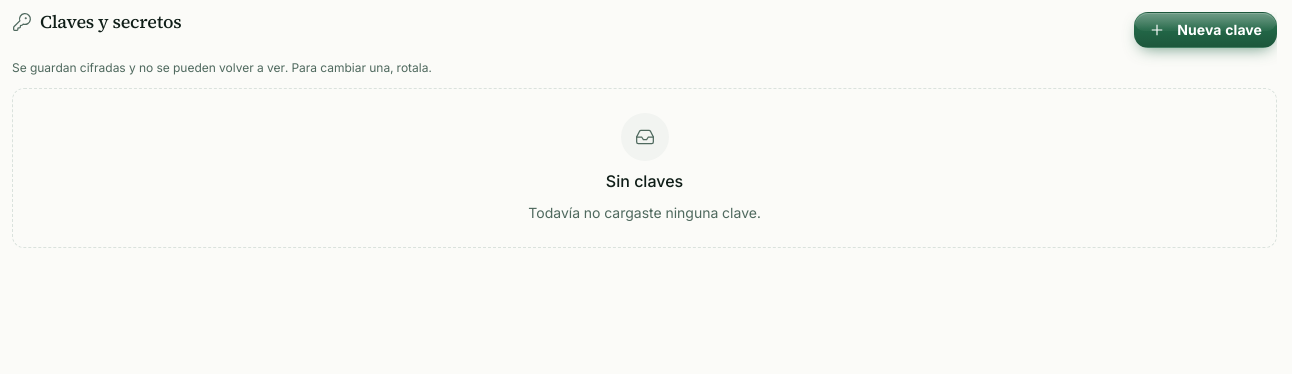
it: SecretsSection: crear › si falla, muestra el error y BORRA el valor sensible del campo
Click the button "Nueva clave" at (1206, 30), box top-left (1134, 12), bottom-right (1277, 48)
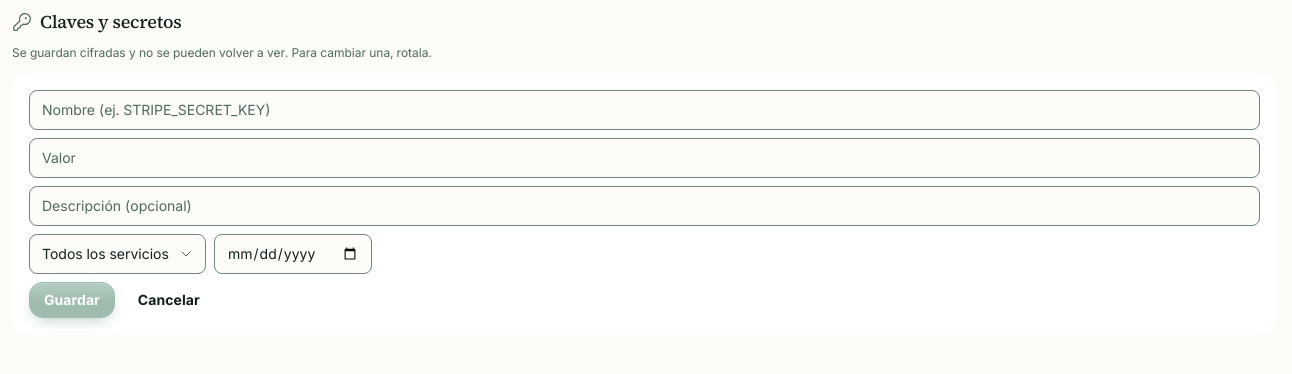
Type "MI_CLAVE" into the field with placeholder "Nombre (ej. STRIPE_SECRET_KEY)" at (644, 110), box top-left (29, 90), bottom-right (1260, 130)
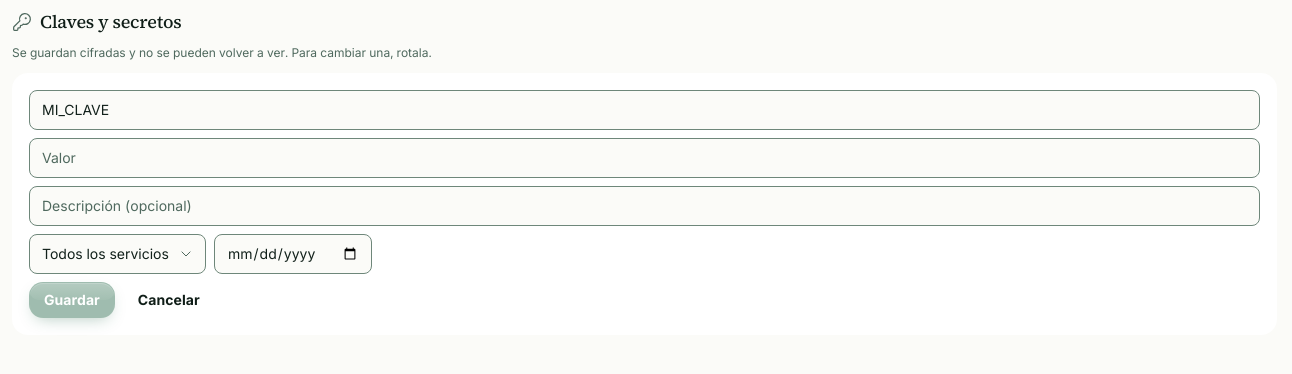
Type "sk_live_super_secreto" into the password field with placeholder "Valor" at (644, 158), box top-left (29, 138), bottom-right (1260, 178)
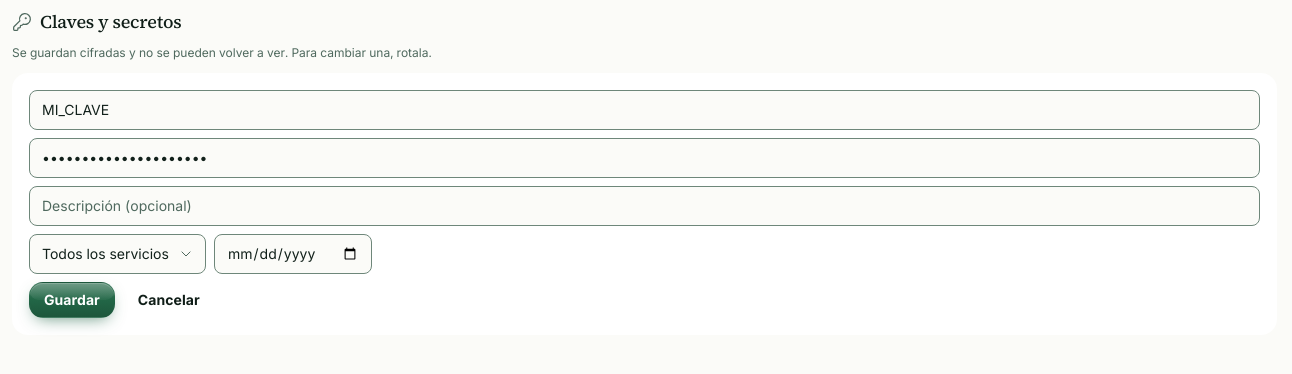
Click the button "Guardar" at (72, 300), box top-left (29, 282), bottom-right (115, 318)
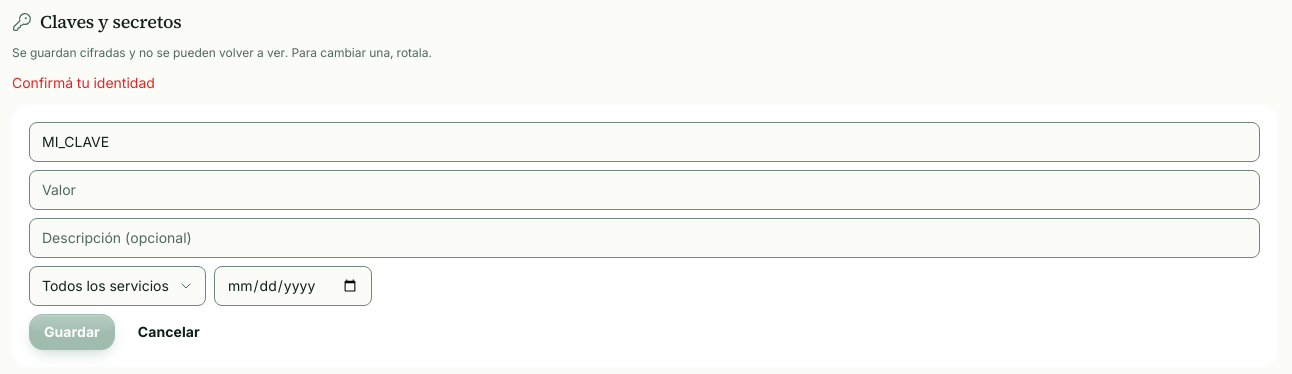
Result: the message reads "Confirmá tu identidad" at top-left (12, 74), bottom-right (155, 91)
Result: the password field with placeholder "Valor" is empty at top-left (29, 170), bottom-right (1260, 210)
